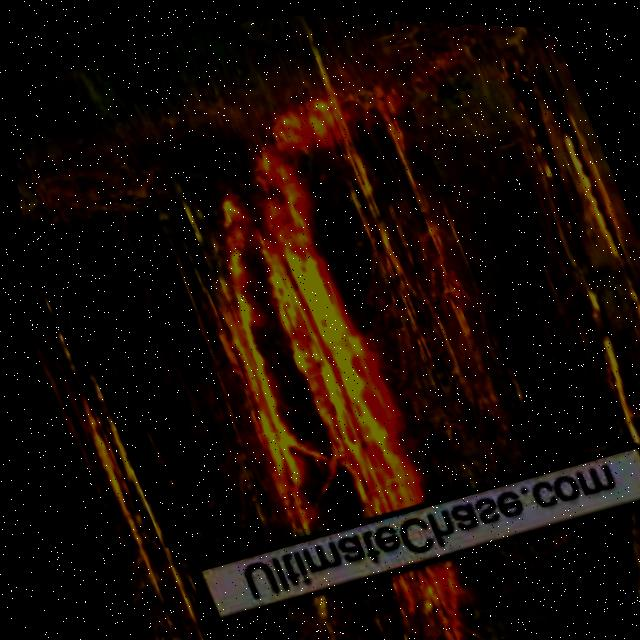Fire: (152, 148, 438, 534), (33, 317, 193, 597), (371, 550, 478, 640), (245, 77, 355, 158)
